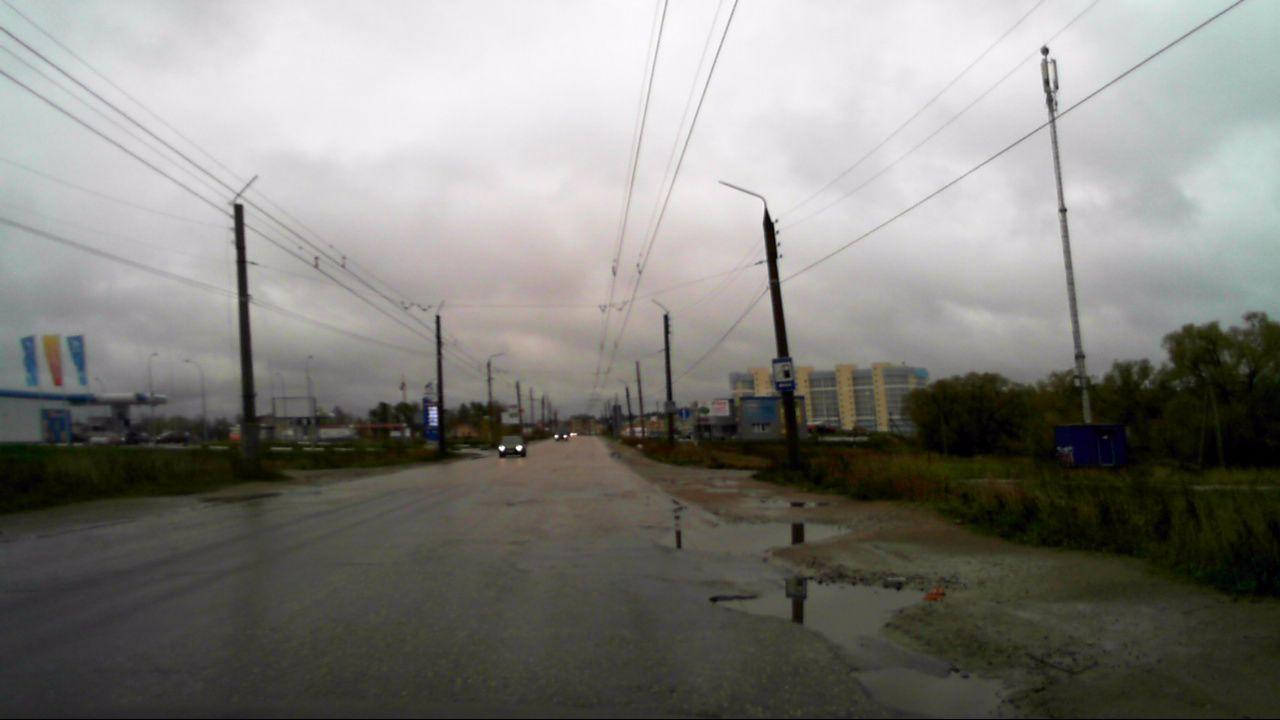7_3: (773, 356, 795, 390)
